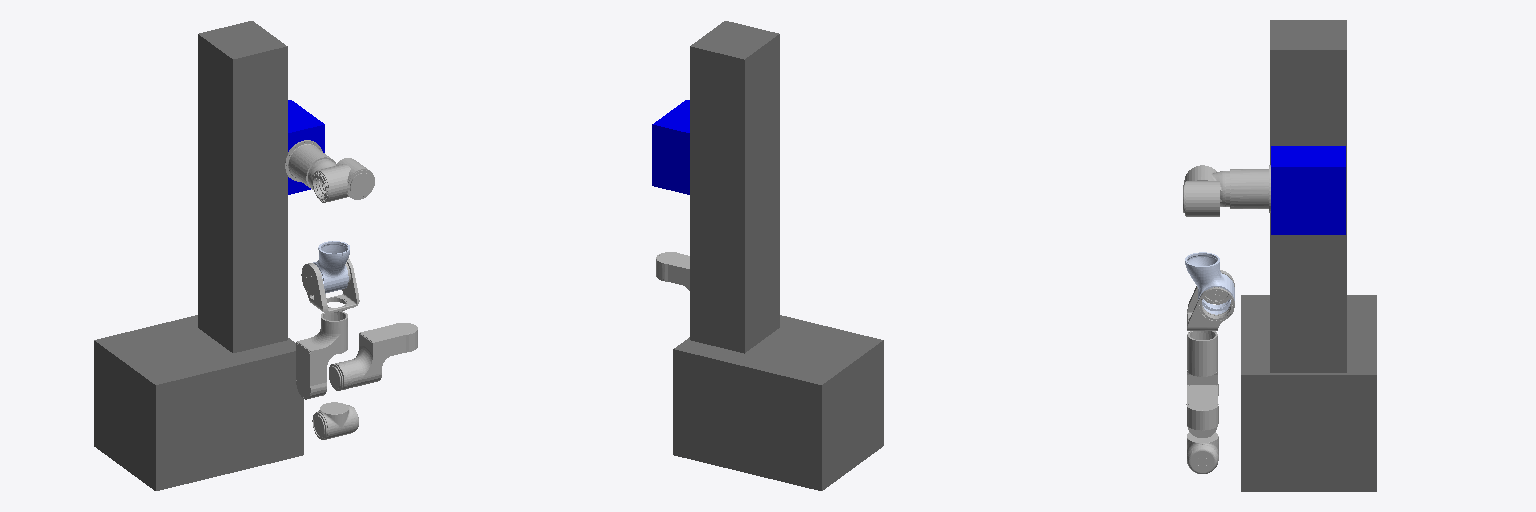
The robot description file, URDF, robot "w10_body":
<?xml version="1.0" encoding="utf-8"?>
<!-- This URDF was automatically created by SolidWorks to URDF Exporter! Originally created by Stephen Brawner (brawner@gmail.com) 
     Commit Version: 1.6.0-4-g7f85cfe  Build Version: 1.6.7995.38578
     For more information, please see http://wiki.ros.org/sw_urdf_exporter -->
<robot
  name="w10_body">

  <material name="gray">
    <color rgba="0.5 0.5 0.5 1.0" />
  </material>
  <material name="blue">
    <color rgba="0 0 1 1.0" />
  </material>
  <material name="red">
    <color rgba="1 0 0 1.0" />
  </material>
  <material name="white">
    <color rgba="1 1 1 1" />
  </material>
  <material name="green">
    <color rgba="0.0039 0.4902 0.0039 1" />
  </material>
  <material name="dark_blue">
    <color rgba="0.0039 0.0039 0.4902 1" />
  </material>
  <material name="dark_red">
    <color rgba="0.4902 0.0039 0.0039 1" />
  </material>
  <material name="black">
    <color rgba="0.2 0.2 0.2 1" />
  </material>

  <link name="world" />

  <link name="cube_base">
    <visual>
      <geometry>
        <box size="0.68 0.49 0.465" />
      </geometry>
      <material name="gray" />
    </visual>
    <collision>
      <geometry>
        <box size="0.68 0.49 0.465" />
      </geometry>
    </collision>
    <inertial>
      <mass value="5.0" />
      <inertia ixx="1.0" ixy="0.0" ixz="0.0" iyy="1.0" iyz="0.0" izz="1.0" />
    </inertial>
  </link>

  <joint name="world_joint" type="fixed">
    <parent link="world" />
    <child link="cube_base" />
    <origin xyz="0.0 0.0 0.233" rpy="0.0 0.0 0.0" />
  </joint>

  <link name="cube_body">
    <visual>
      <geometry>
        <box size="0.25 0.28 1.44" />
      </geometry>
      <material name="gray" />
    </visual>
    <collision>
      <geometry>
        <box size="0.25 0.28 1.44" />
      </geometry>
    </collision>
    <inertial>
      <mass value="5.0" />
      <inertia ixx="1.0" ixy="0.0" ixz="0.0" iyy="1.0" iyz="0.0" izz="1.0" />
    </inertial>
  </link>

  <joint name="cube_body_to_base" type="fixed">
    <parent link="cube_base" />
    <child link="cube_body" />
    <origin xyz="0.2 0 0.8" rpy="0 0 0" />
  </joint>

  <link name="cube_link">
    <visual>
      <geometry>
        <box size="0.20 0.27 0.27" />
      </geometry>
      <material name="blue" />
    </visual>
    <collision>
      <geometry>
        <box size="0.20 0.27 0.27" />
      </geometry>
    </collision>
    <inertial>
      <origin xyz="0 0 0.02" rpy="0 0 0" />
      <mass value="5.0" />
      <inertia ixx="0.5" ixy="0" ixz="0" iyy="0.5" iyz="0" izz="0.05" />
    </inertial>
  </link>

  <joint name="cube_link_to_base" type="fixed">
    <parent link="cube_body" />
    <child link="cube_link" />
    <origin xyz="0.2 0 0.2" rpy="0 0 0" />
  </joint>

  <!-- <joint name="left_arm_to_cube" type="fixed">
    <parent link="cube_link" />
    <child link="base_link" />
    <origin xyz="0 0.135 0" rpy="-1.57 -3.14 0" />
  </joint> -->

  <joint name="right_arm_to_cube" type="fixed">
    <parent link="cube_link" />
    <child link="base_link" />
    <origin xyz="0 -0.135 0" rpy="1.57 -1.57 0" />
  </joint>

  <link
    name="base_link">
    <inertial>
      <origin
        xyz="-4.5208E-06 1.396E-06 0.091972"
        rpy="0 0 0" />
      <mass
        value="2.2909" />
      <inertia
        ixx="0.007292"
        ixy="-9.2658E-08"
        ixz="-1.0714E-07"
        iyy="0.007285"
        iyz="-4.5939E-07"
        izz="0.0085503" />
    </inertial>
    <visual>
      <origin
        xyz="0 0 0"
        rpy="0 0 0" />
      <geometry>
        <mesh
          filename="package://w10_sim/meshes/base_link.STL" />
      </geometry>
      <material
        name="">
        <color
          rgba="0.75294 0.75294 0.75294 1" />
      </material>
    </visual>
    <collision>
      <origin
        xyz="0 0 0"
        rpy="0 0 0" />
      <geometry>
        <mesh
          filename="package://w10_sim/meshes/base_link.STL" />
      </geometry>
    </collision>
  </link>
  <link
    name="Link1">
    <inertial>
      <origin
        xyz="0 0 0.23729"
        rpy="0 0 0" />
      <mass
        value="1.7902" />
      <inertia
        ixx="0.0044326"
        ixy="-9.695E-07"
        ixz="-2.9741E-06"
        iyy="0.005783"
        iyz="6.3081E-05"
        izz="0.004111" />
    </inertial>
    <visual>
      <origin
        xyz="0 0 0"
        rpy="0 0 0" />
      <geometry>
        <mesh
          filename="package://w10_sim/meshes/Link1.STL" />
      </geometry>
      <material
        name="">
        <color
          rgba="0.75294 0.75294 0.75294 1" />
      </material>
    </visual>
    <collision>
      <origin
        xyz="0 0 0"
        rpy="0 0 0" />
      <geometry>
        <mesh
          filename="package://w10_sim/meshes/Link1.STL" />
      </geometry>
    </collision>
  </link>
  <joint
    name="Joint1"
    type="revolute">
    <origin
      xyz="0 0 0"
      rpy="0 0 0" />
    <parent
      link="base_link" />
    <child
      link="Link1" />
    <axis
      xyz="0 0 1" />
    <limit
      lower="-3.14159"
      upper="3.14159"
      effort="150"
      velocity="1.57" />
  </joint>
  <link
    name="Link2">
    <inertial>
      <origin
        xyz="0 0.16001 0"
        rpy="0 0 0" />
      <mass
        value="3.6686" />
      <inertia
        ixx="0.0194"
        ixy="6.6606E-05"
        ixz="-7.1662E-05"
        iyy="0.01431"
        iyz="0.00050157"
        izz="0.016052" />
    </inertial>
    <visual>
      <origin
        xyz="0 0 0"
        rpy="0 0 0" />
      <geometry>
        <mesh
          filename="package://w10_sim/meshes/Link2.STL" />
      </geometry>
      <material
        name="">
        <color
          rgba="0.75294 0.75294 0.75294 1" />
      </material>
    </visual>
    <collision>
      <origin
        xyz="0 0 0"
        rpy="0 0 0" />
      <geometry>
        <mesh
          filename="package://w10_sim/meshes/Link2.STL" />
      </geometry>
    </collision>
  </link>
  <joint
    name="Joint2"
    type="revolute">
    <origin
      xyz="0 0 0.248"
      rpy="1.5708 -1.5708 0" />
    <parent
      link="Link1" />
    <child
      link="Link2" />
    <axis
      xyz="0 0 -1" />
    <limit
      lower="-3.14159"
      upper="3.14159"
      effort="150"
      velocity="1.57" />
  </joint>
  <link
    name="Link3">
    <inertial>
      <origin
        xyz="0.0317650732299706 0 -0.0401197895533406"
        rpy="0 0 0" />
      <mass
        value="1.08340806836632" />
      <inertia
        ixx="0.0055354350246501"
        ixy="-1.24970567336768E-05"
        ixz="-0.0012018205685461"
        iyy="0.00676653220988555"
        iyz="-1.1936128068962E-05"
        izz="0.00377122222019624" />
    </inertial>
    <visual>
      <origin
        xyz="0 0 0"
        rpy="0 0 0" />
      <geometry>
        <mesh
          filename="package://w10_sim/meshes/Link3.STL" />
      </geometry>
      <material
        name="">
        <color
          rgba="0.866666666666667 0.909803921568627 1 1" />
      </material>
    </visual>
    <collision>
      <origin
        xyz="0 0 0"
        rpy="0 0 0" />
      <geometry>
        <mesh
          filename="package://w10_sim/meshes/Link3.STL" />
      </geometry>
    </collision>
  </link>
  <joint
    name="Joint3"
    type="revolute">
    <origin
      xyz="0 0.425 0"
      rpy="1.5708 0 -3.1416" />
    <parent
      link="Link2" />
    <child
      link="Link3" />
    <axis
      xyz="0 0 1" />
    <limit
      lower="-3.14159"
      upper="3.14159"
      effort="150"
      velocity="1.57" />
  </joint>
  <link
    name="Link4">
    <inertial>
      <origin
        xyz="0.0160855337130036 0.0244220238192113 -0.0140914135214584"
        rpy="0 0 0" />
      <mass
        value="2.95948805637316" />
      <inertia
        ixx="0.00986102443186048"
        ixy="-0.000785511294194122"
        ixz="-5.30757510475327E-05"
        iyy="0.00939426486393401"
        iyz="-0.000322215108284144"
        izz="0.00792432385260811" />
    </inertial>
    <visual>
      <origin
        xyz="0 0 0"
        rpy="0 0 0" />
      <geometry>
        <mesh
          filename="package://w10_sim/meshes/Link4.STL" />
      </geometry>
      <material
        name="">
        <color
          rgba="0.752941176470588 0.752941176470588 0.752941176470588 1" />
      </material>
    </visual>
    <collision>
      <origin
        xyz="0 0 0"
        rpy="0 0 0" />
      <geometry>
        <mesh
          filename="package://w10_sim/meshes/Link4.STL" />
      </geometry>
    </collision>
  </link>
  <joint
    name="Joint4"
    type="revolute">
    <origin
      xyz="0.05 0 0"
      rpy="1.5708 0 3.1416" />
    <parent
      link="Link3" />
    <child
      link="Link4" />
    <axis
      xyz="0 0 -1" />
    <limit
      lower="-3.14159"
      upper="3.14159"
      effort="150"
      velocity="1.57" />
  </joint>
  <link
    name="Link5">
    <inertial>
      <origin
        xyz="0 -0.0367557919639413 -0.181485998918127"
        rpy="0 0 0" />
      <mass
        value="2.83332837536096" />
      <inertia
        ixx="0.0154967151939413"
        ixy="2.47801432245023E-07"
        ixz="-8.02945241132858E-08"
        iyy="0.0143840168739248"
        iyz="0.00397451877041743"
        izz="0.00790844728912351" />
    </inertial>
    <visual>
      <origin
        xyz="0 0 0"
        rpy="0 0 0" />
      <geometry>
        <mesh
          filename="package://w10_sim/meshes/Link5.STL" />
      </geometry>
      <material
        name="">
        <color
          rgba="0.752941176470588 0.752941176470588 0.752941176470588 1" />
      </material>
    </visual>
    <collision>
      <origin
        xyz="0 0 0"
        rpy="0 0 0" />
      <geometry>
        <mesh
          filename="package://w10_sim/meshes/Link5.STL" />
      </geometry>
    </collision>
  </link>
  <joint
    name="Joint5"
    type="revolute">
    <origin
      xyz="0.05 0.4267 0"
      rpy="1.5708 0 3.1416" />
    <parent
      link="Link4" />
    <child
      link="Link5" />
    <axis
      xyz="0 0 1" />
    <limit
      lower="-3.14159"
      upper="3.14159"
      effort="150"
      velocity="1.57" />
  </joint>
  <link
    name="Link6">
    <inertial>
      <origin
        xyz="0 -0.0056448 -0.035346"
        rpy="0 0 0" />
      <mass
        value="2.9816" />
      <inertia
        ixx="0.0033715"
        ixy="-2.0791E-07"
        ixz="-6.4744E-08"
        iyy="0.0045824"
        iyz="1.1174E-05"
        izz="0.0039673" />
    </inertial>
    <visual>
      <origin
        xyz="0 0 0"
        rpy="0 0 0" />
      <geometry>
        <mesh
          filename="package://w10_sim/meshes/Link6.STL" />
      </geometry>
      <material
        name="">
        <color
          rgba="0.75294 0.75294 0.75294 1" />
      </material>
    </visual>
    <collision>
      <origin
        xyz="0 0 0"
        rpy="0 0 0" />
      <geometry>
        <mesh
          filename="package://w10_sim/meshes/Link6.STL" />
      </geometry>
    </collision>
  </link>
  <joint
    name="Joint6"
    type="revolute">
    <origin
      xyz="0 0 0"
      rpy="1.5708 0 -3.1416" />
    <parent
      link="Link5" />
    <child
      link="Link6" />
    <axis
      xyz="0 0 -1" />
    <limit
      lower="-3.14159"
      upper="3.14159"
      effort="150"
      velocity="1.57" />
  </joint>
  <link
    name="Link7">
    <inertial>
      <origin
        xyz="0 0 -0.026974"
        rpy="0 0 0" />
      <mass
        value="1.298" />
      <inertia
        ixx="0.00095899"
        ixy="-3.4434E-06"
        ixz="6.3871E-07"
        iyy="0.0009081"
        iyz="-1.5055E-06"
        izz="0.0017806" />
    </inertial>
    <visual>
      <origin
        xyz="0 0 0"
        rpy="0 0 0" />
      <geometry>
        <mesh
          filename="package://w10_sim/meshes/Link7.STL" />
      </geometry>
      <material
        name="">
        <color
          rgba="0.75294 0.75294 0.75294 1" />
      </material>
    </visual>
    <collision>
      <origin
        xyz="0 0 0"
        rpy="0 0 0" />
      <geometry>
        <mesh
          filename="package://w10_sim/meshes/Link7.STL" />
      </geometry>
    </collision>
  </link>
  <joint
    name="Joint7"
    type="revolute">
    <origin
      xyz="0 0.1334 0"
      rpy="1.5708 0 3.1416" />
    <parent
      link="Link6" />
    <child
      link="Link7" />
    <axis
      xyz="0 0 1" />
    <limit
      lower="-3.14159"
      upper="3.14159"
      effort="150"
      velocity="1.57" />
  </joint>
</robot>

--- What the picture shows (computed from the rendered views, not written in the file) ---
The picture shows the robot from 3 angles, left to right: view 1: azimuth 30°, elevation 25°; view 2: azimuth 150°, elevation 25°; view 3: azimuth 270°, elevation 25°; orthographic projection.
Model w10_body with 12 links and 11 joints (7 revolute, 4 fixed), rooted at world, posed every joint at zero.
Links seen in each view (by area): view 1: cube_body, cube_base, Link6, Link5, Link4, cube_link, Link3, Link7, Link1, base_link, Link2; view 2: cube_base, cube_body, cube_link, Link6; view 3: cube_base, cube_body, cube_link, base_link, Link5, Link3, Link6, Link4, Link2, Link7, Link1.
Link boxes in pixels (x1,y1,x2,y2): cube_body: (198, 21, 287, 352); cube_base: (94, 315, 303, 490); Link6: (329, 323, 417, 390); Link5: (296, 312, 347, 399); Link4: (301, 258, 359, 313); cube_link: (288, 100, 324, 194); Link3: (313, 241, 349, 293); Link7: (312, 402, 358, 439); Link1: (310, 160, 350, 202); base_link: (285, 140, 335, 189); Link2: (336, 158, 374, 199); cube_base: (673, 315, 883, 490); cube_body: (690, 21, 779, 353); cube_link: (652, 100, 689, 194); Link6: (656, 252, 689, 290); cube_base: (1241, 295, 1376, 491); cube_body: (1270, 20, 1346, 372); cube_link: (1271, 146, 1345, 234); base_link: (1226, 165, 1270, 212); Link5: (1187, 331, 1218, 395); Link3: (1185, 252, 1234, 314); Link6: (1186, 385, 1218, 437); Link4: (1187, 270, 1234, 330); Link2: (1183, 181, 1219, 216); Link7: (1187, 432, 1218, 473); Link1: (1184, 165, 1225, 206).
Size in the robot's own frame: 1.11 by 0.6971 by 1.75 metres.
Meshes: 8 distinct files referenced, 8 mesh visuals loaded (8 binary STL).
